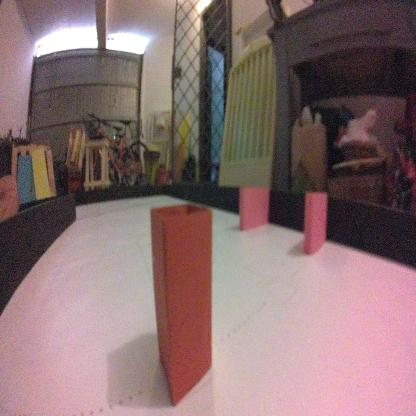magenta: (302, 189, 328, 259), (238, 182, 269, 232)
red: (149, 199, 216, 413)
